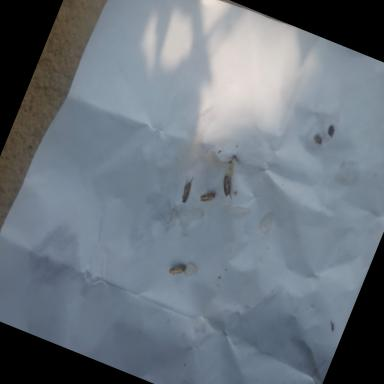pbw: (217, 174, 239, 200), (178, 172, 195, 202), (164, 259, 186, 278), (198, 187, 216, 205)
